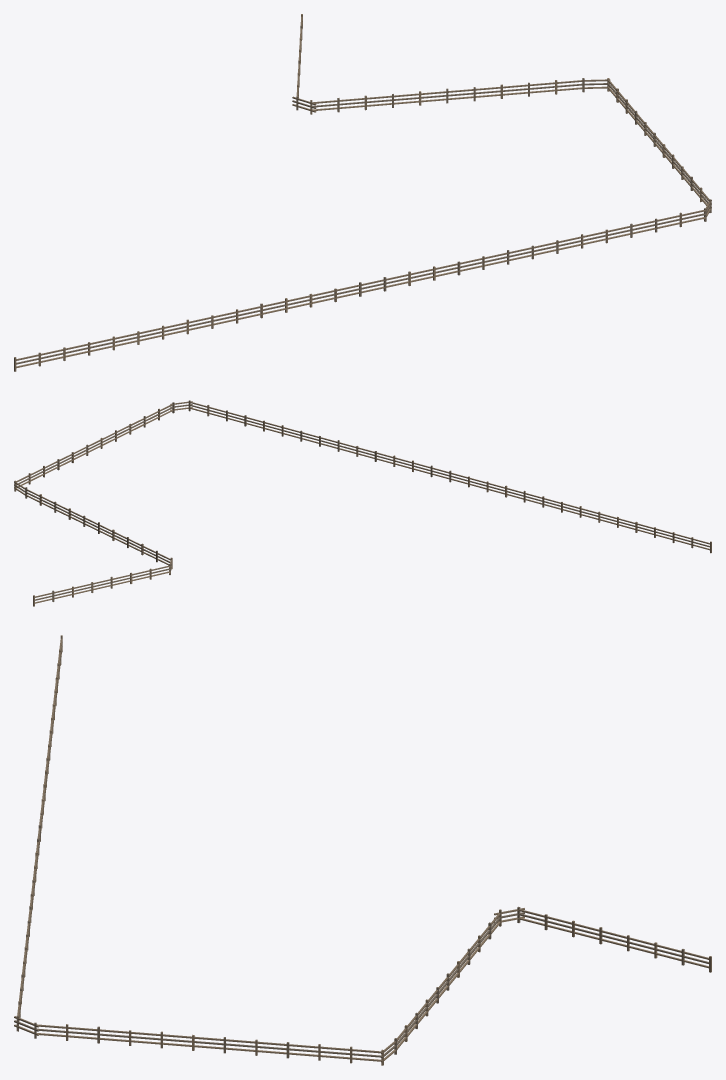
File: border_00037.glb
3 renders of one model, top to bottom at view 1: azimuth 30°, elevation 25°; view 2: azimuth 150°, elevation 25°; view 3: azimuth 270°, elevation 25°, orthographic. The views are drawn at different scales.
Parts seen in each view (by area): view 1: Fence rails, Fence posts; view 2: Fence rails, Fence posts; view 3: Fence rails, Fence posts.
Part boxes in pixels (x1,y1,x2,y2): Fence rails: (16, 16, 711, 368); Fence posts: (14, 14, 711, 371); Fence rails: (14, 401, 709, 603); Fence posts: (14, 400, 711, 606); Fence rails: (14, 638, 708, 1062); Fence posts: (16, 635, 711, 1065).
Size of the model in its own units: 65.78 by 1.21 by 46.77.
